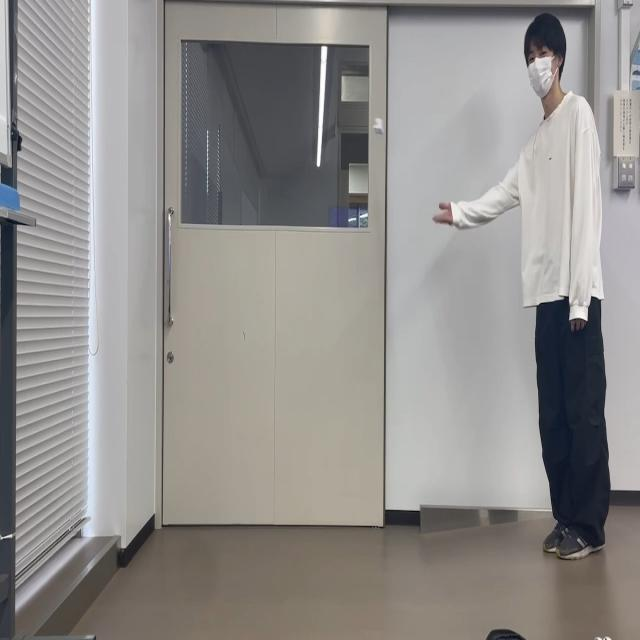paper: (370, 111, 388, 141)
